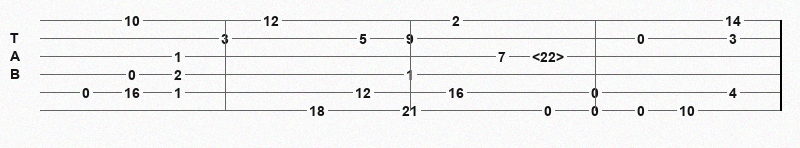0: (82, 85, 94, 99), (128, 67, 140, 81), (544, 103, 556, 117), (591, 85, 603, 99), (591, 103, 603, 117), (637, 31, 649, 45), (637, 103, 649, 117)
1: (174, 49, 186, 63), (174, 85, 186, 99), (406, 67, 418, 81)
10: (124, 13, 144, 27), (679, 103, 699, 117)
12: (263, 13, 283, 27), (355, 85, 375, 99)
14: (725, 13, 745, 27)
16: (124, 85, 144, 99), (448, 85, 468, 99)
18: (309, 103, 329, 117)
2: (174, 67, 186, 81), (452, 13, 464, 27)
21: (402, 103, 422, 117)
3: (221, 31, 233, 45), (729, 31, 741, 45)
4: (729, 85, 741, 99)
5: (359, 31, 371, 45)
7: (498, 49, 510, 63)
9: (406, 31, 418, 45)
harmonic: (532, 49, 568, 63)
